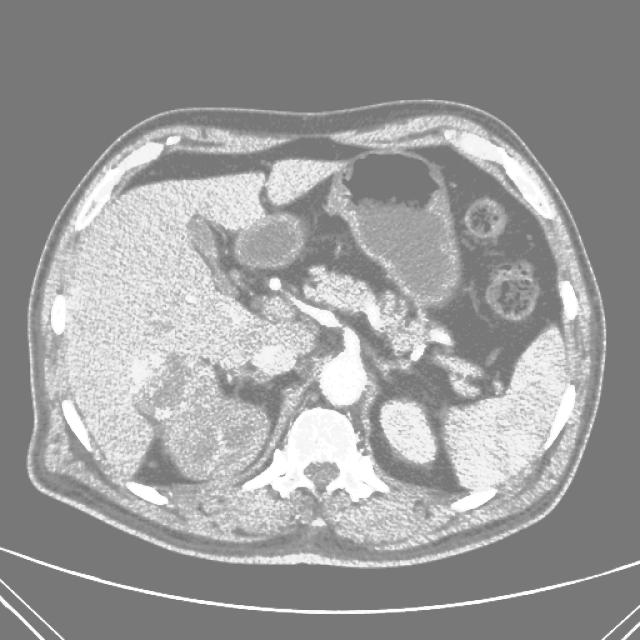TUMOR: (127, 205, 497, 453)
